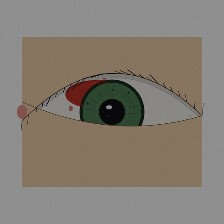hemorrhage_spot: (53, 59, 142, 130)
